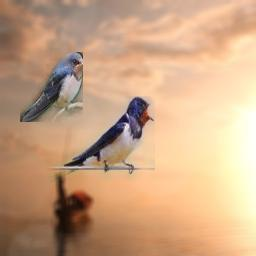Swallow: (47, 96, 155, 182), (20, 52, 83, 122)
